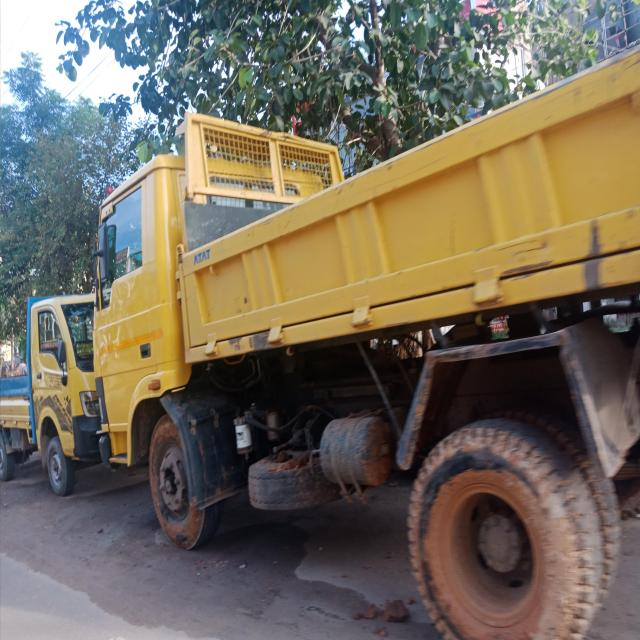pickup-van: (0, 261, 94, 536)
truck: (91, 44, 640, 640)
